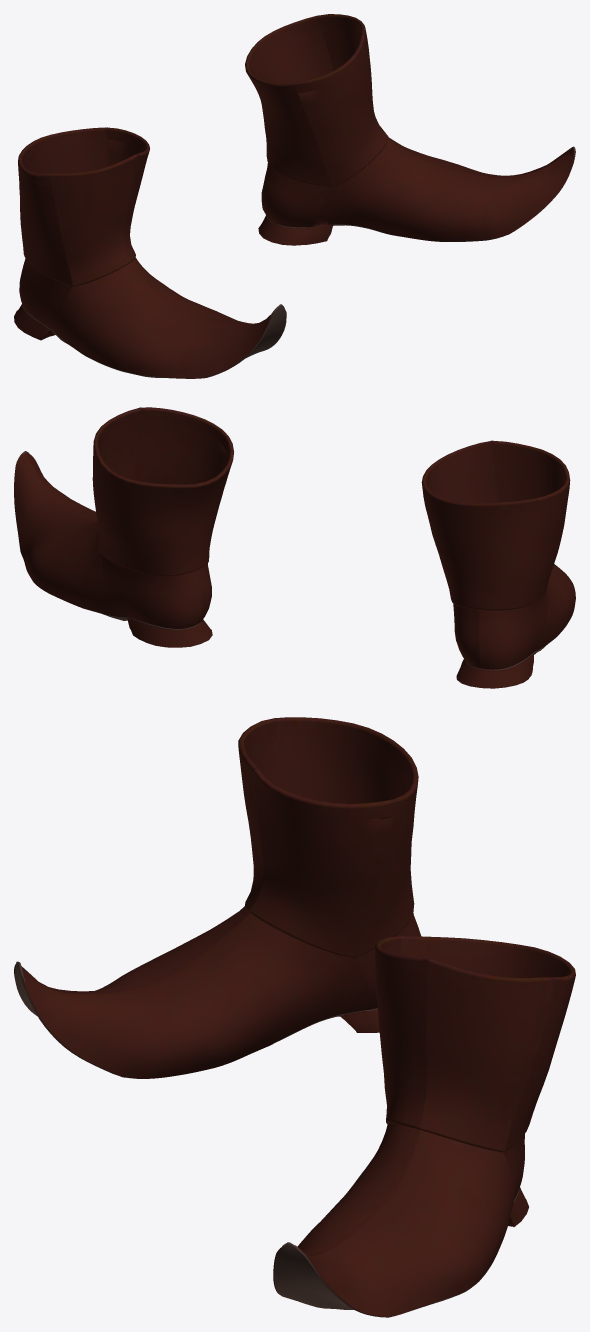
Rendered from COSSACK_BOOTS_2#30.glb.
The picture shows the model from 3 angles, top to bottom: view 1: azimuth 30°, elevation 25°; view 2: azimuth 150°, elevation 25°; view 3: azimuth 270°, elevation 25°; orthographic projection. The views are drawn at different scales.
Parts seen in each view (by area): view 1: shoes_4_lev_kazak; view 2: shoes_4_lev_kazak; view 3: shoes_4_lev_kazak.
Part boxes in pixels (left/top/right/bottom): shoes_4_lev_kazak: left=14, top=14, right=575, bottom=378; shoes_4_lev_kazak: left=14, top=407, right=575, bottom=688; shoes_4_lev_kazak: left=14, top=717, right=575, bottom=1317.
Size of the model in its own units: 5.12 by 1.79 by 3.19.
Materials: 1 (1 with a texture image).
